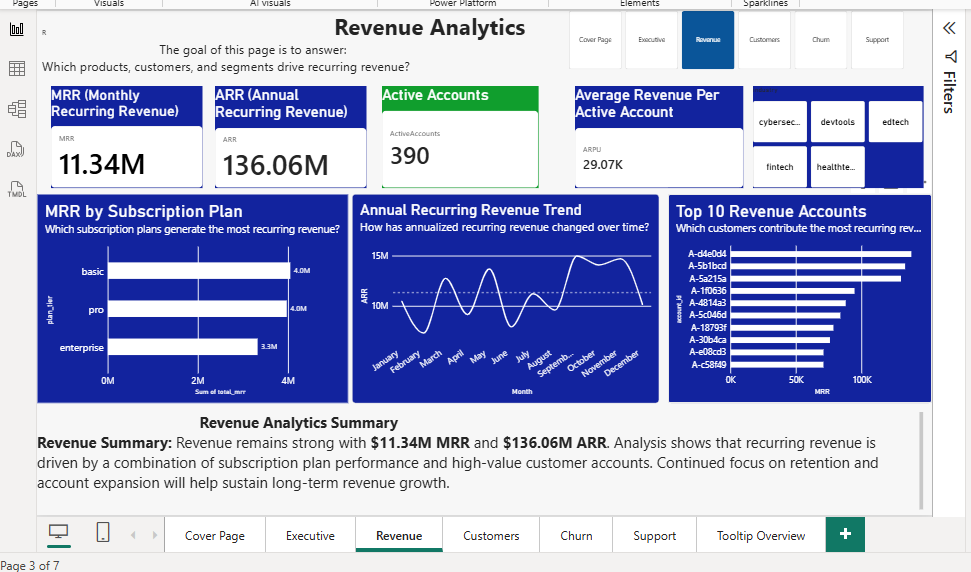

Layout of this report page (visuals, bound fields, positions):
{"tool":"powerbi","page":{"name":"Revenue","canvas":[1920,1080],"ordinal":2},"visuals":[{"type":"textbox","box":[10.6,0,1890,161.6],"z":0},{"type":"cardVisual","title":"Average Revenue Per Active Account","fields":{"Data":["DimDate.ARPU"]},"box":[1154.4,161.6,361.4,219],"z":1000},{"type":"clusteredBarChart","title":"MRR by Subscription Plan","fields":{"Category":["dim_accounts.plan_tier"],"Y":["Sum(fct_subscriptions.total_mrr)"]},"box":[0,393.3,667.6,448.6],"z":2000},{"type":"lineChart","title":"Annual Recurring Revenue Trend","fields":{"Category":["dim_accounts.signup_date.Variation.Date Hierarchy.Month"],"Y":["dim_accounts.ARR"]},"box":[676.1,393.3,659.1,448.6],"z":3000},{"type":"clusteredBarChart","title":"Top 10 Revenue Accounts","fields":{"Category":["dim_accounts.account_id"],"Y":["dim_accounts.MRR"]},"box":[1354.3,393.3,565.5,448.6],"z":4000},{"type":"textbox","box":[0,861,1900.6,219],"z":5000},{"type":"pageNavigator","box":[1141.7,0,720.7,125.4],"z":6000},{"type":"cardVisual","title":"MRR (Monthly Recurring Revenue)","fields":{"Data":["dim_accounts.MRR"]},"box":[29.8,161.6,325.3,219],"z":7000},{"type":"cardVisual","title":"ARR (Annual Recurring Revenue)","fields":{"Data":["dim_accounts.ARR"]},"box":[382.7,161.6,325.3,219],"z":8000},{"type":"cardVisual","title":"Active Accounts","fields":{"Data":["dim_accounts.ActiveAccounts"]},"box":[739.8,161.6,335.9,219],"z":9000},{"type":"advancedSlicerVisual","fields":{"Values":["dim_accounts.industry"]},"box":[1535,161.6,365.7,219],"z":9001}]}

Visuals, with their boxes on the page's 1920x1080 design canvas (x1, y1, x2, y2). These are canvas units, not pixel positions in the 971x572 screenshot, which may show the page scaled, cropped or inside an application window:
textbox: (left=11, top=0, right=1901, bottom=162)
"Average Revenue Per Active Account" cardVisual: (left=1154, top=162, right=1516, bottom=381)
"MRR by Subscription Plan" clusteredBarChart: (left=0, top=393, right=668, bottom=842)
"Annual Recurring Revenue Trend" lineChart: (left=676, top=393, right=1335, bottom=842)
"Top 10 Revenue Accounts" clusteredBarChart: (left=1354, top=393, right=1920, bottom=842)
textbox: (left=0, top=861, right=1901, bottom=1080)
pageNavigator: (left=1142, top=0, right=1862, bottom=125)
"MRR (Monthly Recurring Revenue)" cardVisual: (left=30, top=162, right=355, bottom=381)
"ARR (Annual Recurring Revenue)" cardVisual: (left=383, top=162, right=708, bottom=381)
"Active Accounts" cardVisual: (left=740, top=162, right=1076, bottom=381)
advancedSlicerVisual - dim_accounts.industry: (left=1535, top=162, right=1901, bottom=381)
